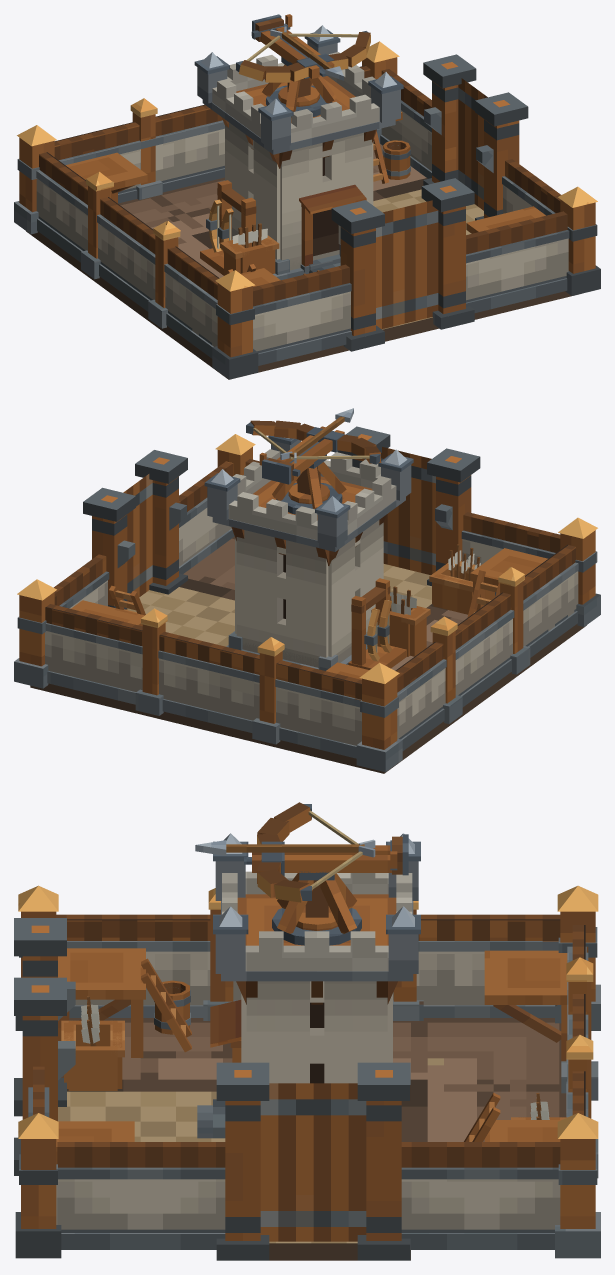
File: arrow.glb
3 renders of one model, top to bottom at view 1: azimuth 30°, elevation 25°; view 2: azimuth 150°, elevation 25°; view 3: azimuth 270°, elevation 25°, orthographic. The views are drawn at different scales.
Visible parts, largest first — view 1: wall, Observation Room, gatepost, floor, Display Stand, gatepost_1, door_1, Recurve bow limbs, door_2, Crossbow bolt; view 2: wall, Observation Room, floor, Display Stand, gatepost_1, Recurve bow limbs, door_1, gatepost, door_2, Crossbow bolt; view 3: wall, Observation Room, floor, Display Stand, gatepost_1, door_2, Recurve bow limbs, gatepost, Crossbow bolt, String rope.
Part boxes in pixels (box(x1,y1,x2,y2)): wall: box(14, 41, 600, 379); Observation Room: box(194, 25, 403, 280); gatepost: box(331, 178, 474, 351); floor: box(26, 144, 573, 379); Display Stand: box(66, 111, 545, 286); gatepost_1: box(423, 54, 528, 220); door_1: box(376, 200, 438, 329); Recurve bow limbs: box(236, 14, 370, 117); door_2: box(458, 78, 487, 210); Crossbow bolt: box(270, 26, 343, 80); wall: box(14, 434, 600, 772); Observation Room: box(204, 435, 413, 670); floor: box(30, 536, 586, 773); Display Stand: box(71, 544, 547, 679); gatepost_1: box(83, 450, 187, 609); Recurve bow limbs: box(246, 420, 381, 514); door_1: box(381, 447, 435, 574); gatepost: box(337, 426, 480, 585); door_2: box(123, 474, 152, 602); Crossbow bolt: box(280, 408, 353, 463); wall: box(15, 885, 600, 1258); Observation Room: box(197, 833, 420, 1138); floor: box(58, 1018, 566, 1260); Display Stand: box(56, 948, 567, 1141); gatepost_1: box(216, 1062, 410, 1260); door_2: box(260, 1083, 366, 1241); Recurve bow limbs: box(244, 802, 408, 945); gatepost: box(14, 918, 75, 1175); Crossbow bolt: box(195, 839, 375, 857); String rope: box(308, 810, 362, 889).
Size of the model in its own units: 207 by 117 by 208.
1 material, 1 textured.
